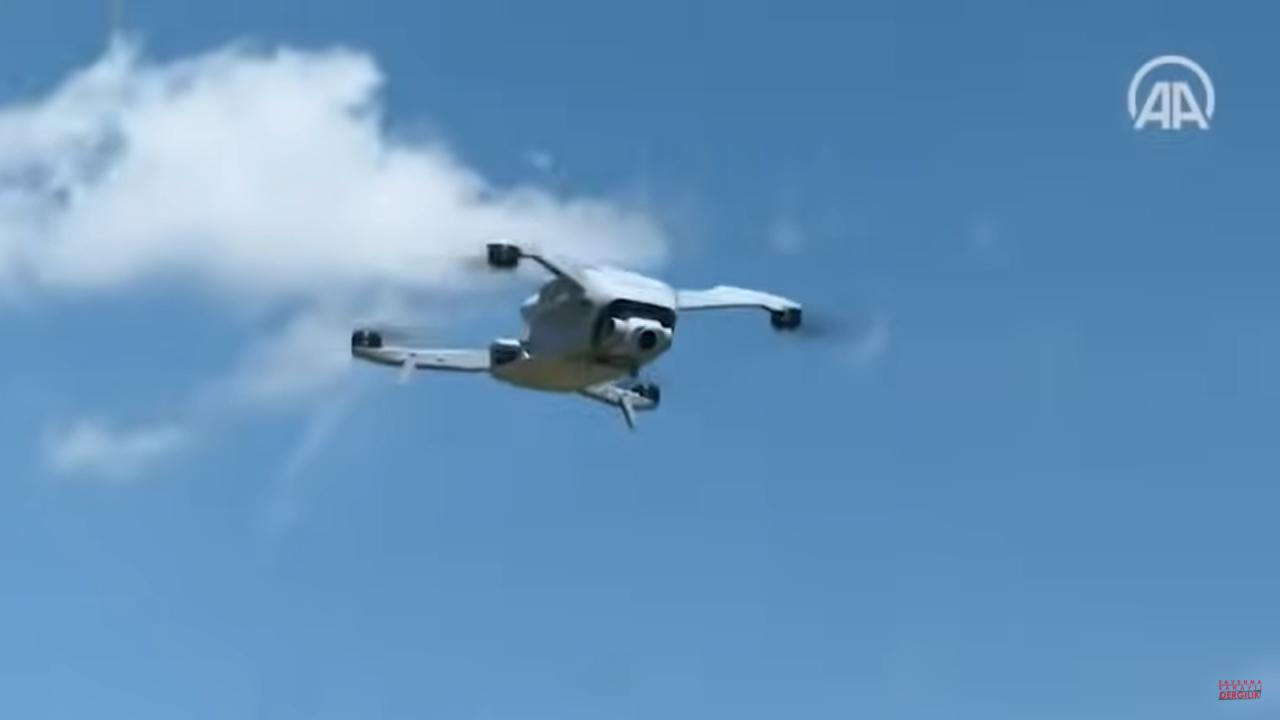Drone: (315, 212, 884, 454)
